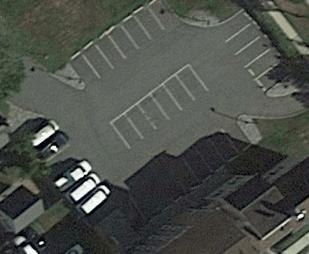parkingspot: (126, 116, 255, 225), (65, 0, 183, 91), (29, 115, 116, 221), (109, 63, 211, 153), (212, 7, 297, 95)
